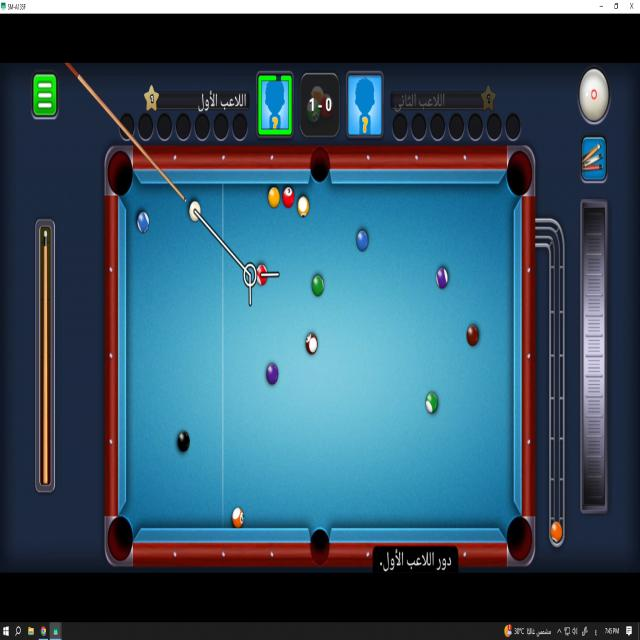object_ball: (232, 507, 244, 528), (267, 363, 278, 385), (137, 212, 149, 232), (426, 392, 437, 413), (178, 431, 189, 452), (283, 187, 294, 208), (312, 275, 323, 296), (357, 230, 368, 251), (467, 325, 478, 346), (306, 334, 317, 354), (268, 187, 279, 207), (437, 268, 447, 289), (298, 197, 309, 216), (257, 265, 267, 285)
white_cue_ball: (189, 201, 201, 222)
